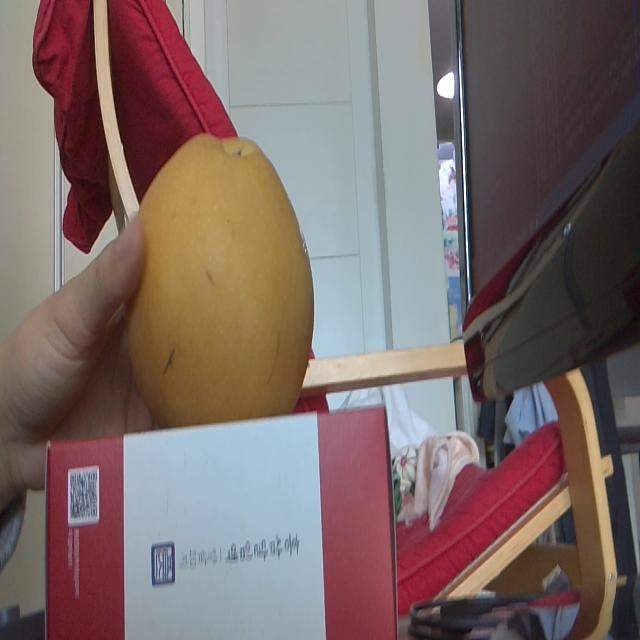pear: (125, 136, 314, 412)
